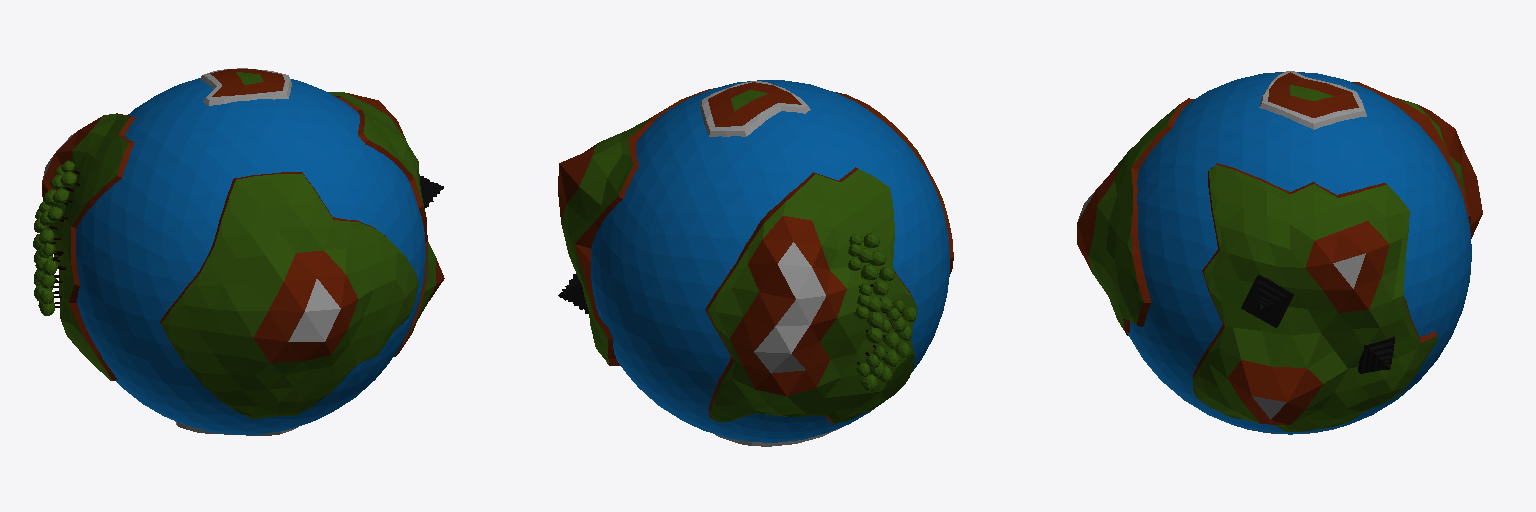
File: planet2.obj
The picture shows the model from 3 angles: view 1: azimuth 30°, elevation 25°; view 2: azimuth 150°, elevation 25°; view 3: azimuth 270°, elevation 25°; orthographic projection.
Parts seen in each view (by area): view 1: land_Icosphere, sea_Icosphere.001, forest_Cylinder.022; view 2: sea_Icosphere.001, land_Icosphere, forest_Cylinder.022, pyramids_Cube.002; view 3: land_Icosphere, sea_Icosphere.001, pyramids_Cube.002.
Boxes of the visible parts, box(x1,y1,x2,y2) form: land_Icosphere: box(42, 68, 444, 435); sea_Icosphere.001: box(75, 78, 425, 434); forest_Cylinder.022: box(33, 160, 79, 315); sea_Icosphere.001: box(591, 80, 949, 442); land_Icosphere: box(558, 81, 953, 446); forest_Cylinder.022: box(848, 233, 917, 391); pyramids_Cube.002: box(558, 274, 588, 313); land_Icosphere: box(1077, 71, 1482, 433); sea_Icosphere.001: box(1127, 72, 1471, 434); pyramids_Cube.002: box(1241, 274, 1394, 373).
Bounding box in the file's own units: 9.65 × 8.6 × 9.41.